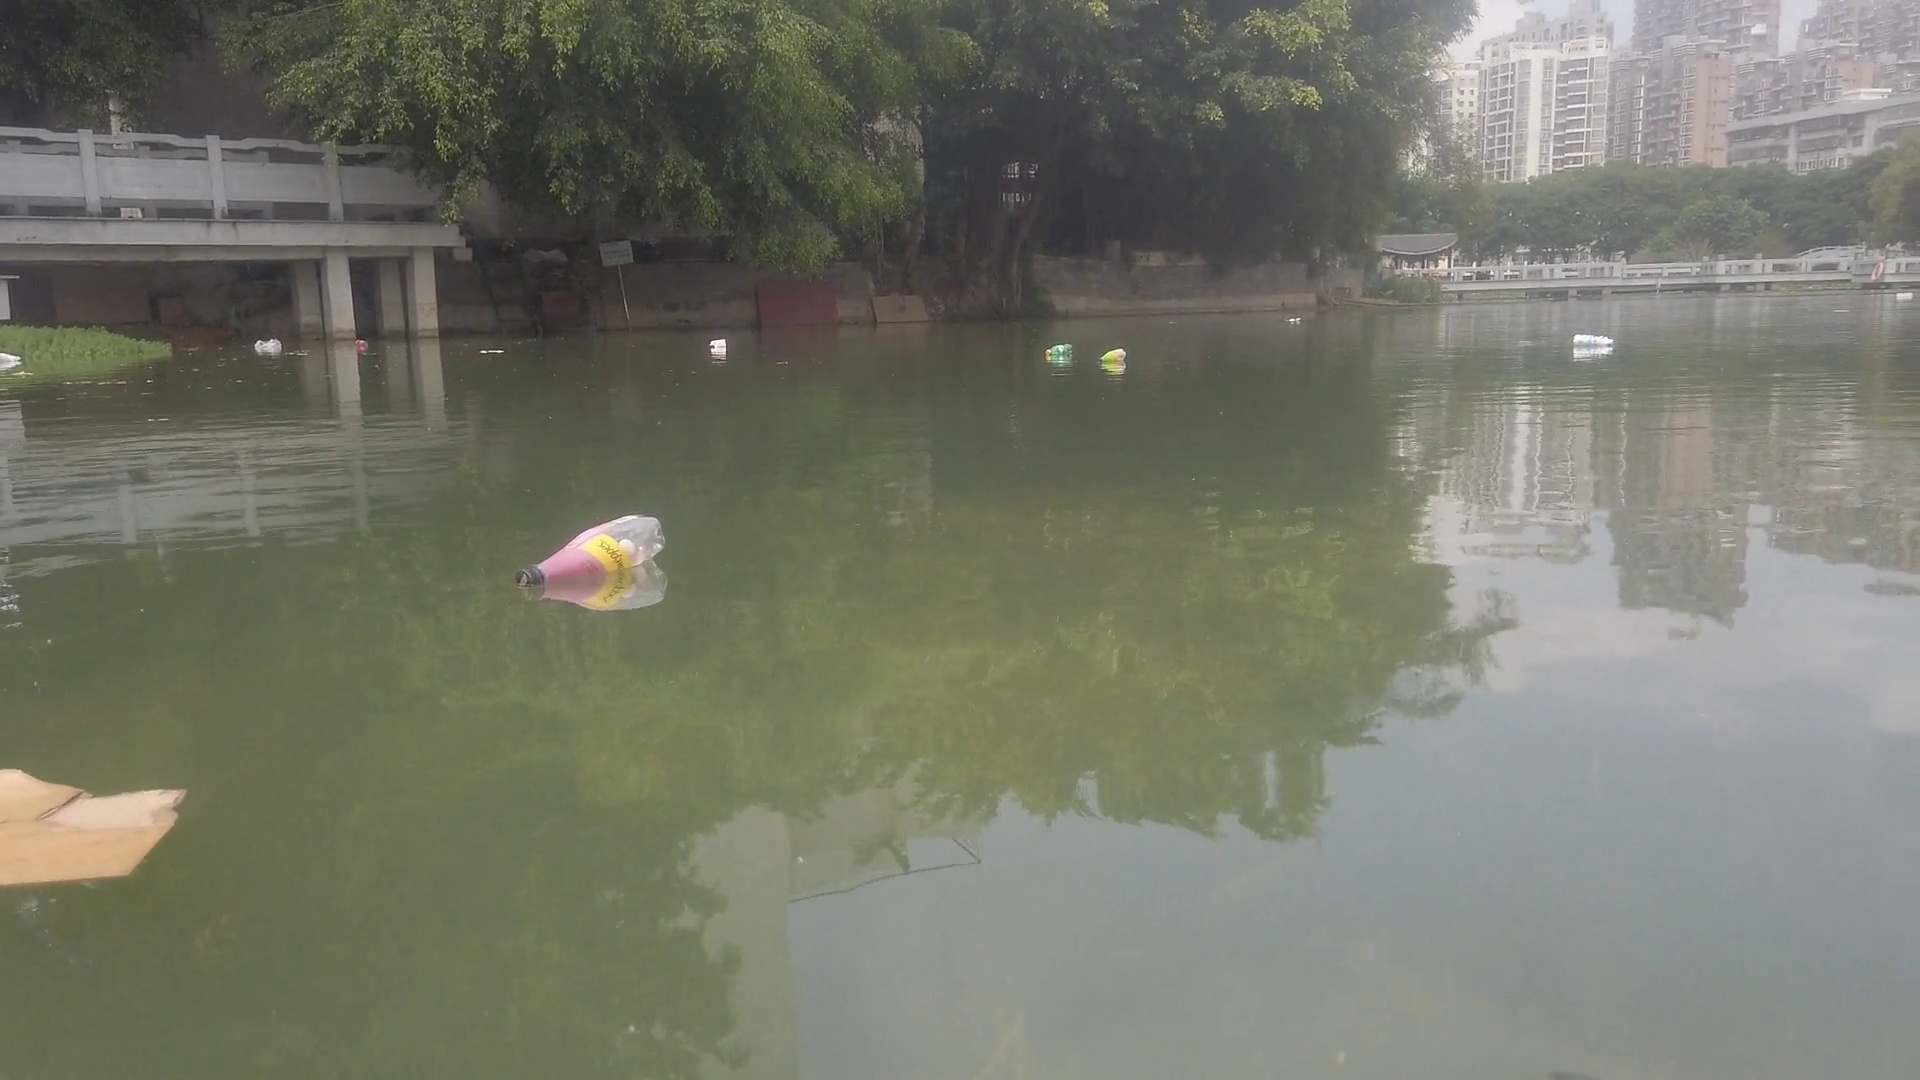bottle: (509, 512, 674, 587), (1572, 328, 1614, 352), (1044, 335, 1073, 357), (1098, 347, 1127, 367), (351, 338, 371, 349)
carton: (705, 338, 732, 352)
paper: (1, 758, 189, 891), (477, 344, 502, 357)
plastic: (249, 338, 287, 355), (1, 351, 26, 369)
